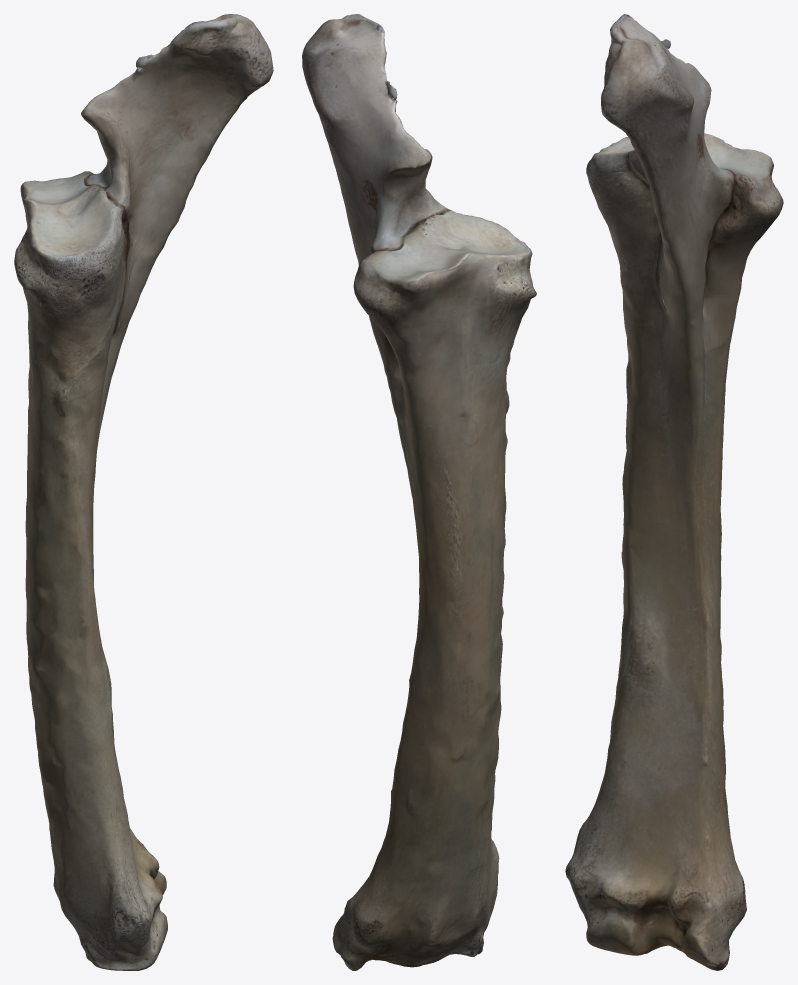
Rendered from Rádio Ulna Direito Equino.glb.
The picture shows the model from 3 angles, left to right: view 1: azimuth 30°, elevation 25°; view 2: azimuth 150°, elevation 25°; view 3: azimuth 270°, elevation 25°; orthographic projection. The views are drawn at different scales.
Parts seen in each view (by area): view 1: 3DModel_LowPoly; view 2: 3DModel_LowPoly; view 3: 3DModel_LowPoly.
Part boxes in pixels (x1,y1,x2,y2): 3DModel_LowPoly: (14, 14, 273, 970); 3DModel_LowPoly: (302, 14, 536, 970); 3DModel_LowPoly: (565, 14, 783, 970).
Size of the model in its own units: 0.5512 by 2.05 by 0.4187.
1 material, 1 textured.
